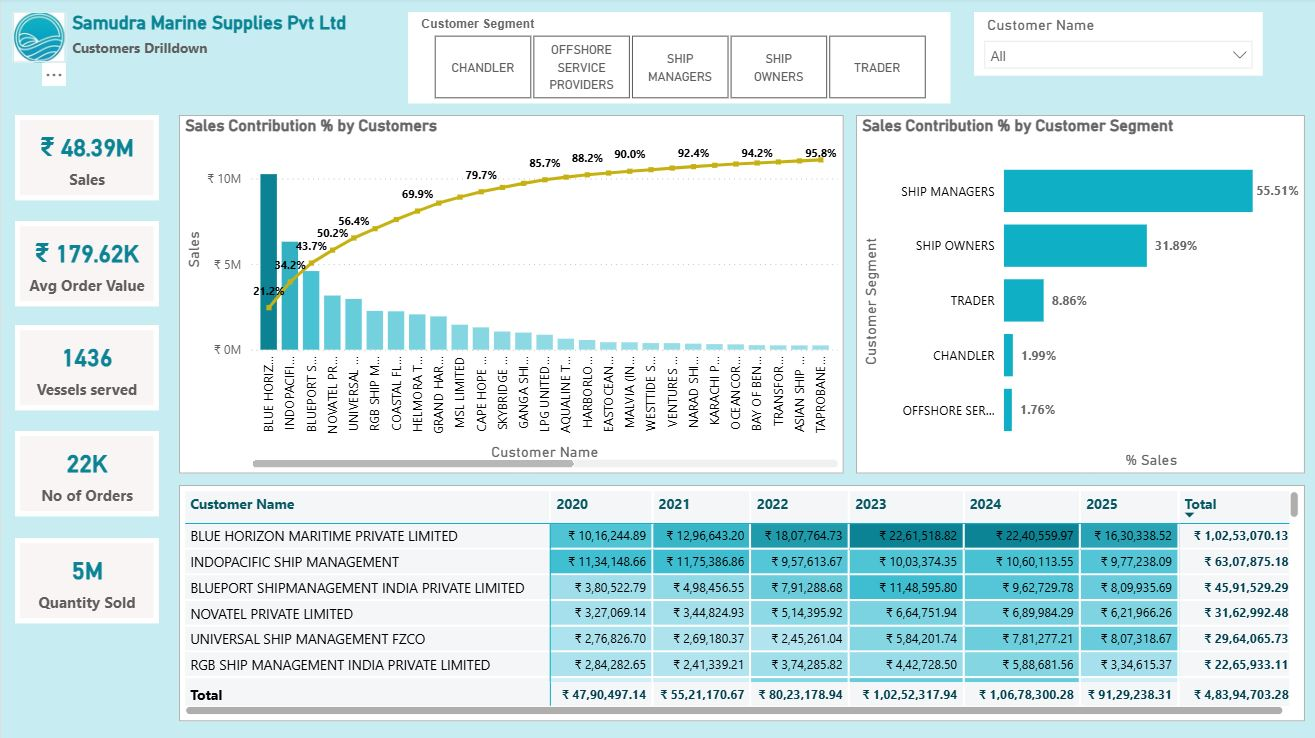

Layout of this report page (visuals, bound fields, positions):
{"tool":"powerbi","page":{"name":"Customers Drilldown","canvas":[1280,720],"ordinal":3},"visuals":[{"type":"lineStackedColumnComboChart","title":"Sales Contribution % by Customers","fields":{"Category":["dim_customers.Customer Name"],"Y":["Sum(kpi_customer_revenue.revenue)"],"Y2":["fact _orders.ParetoCumulative%"]},"box":[173.3,113.9,647.3,349.4],"z":0},{"type":"barChart","title":"Sales Contribution %  by Customer Segment","fields":{"Category":["dim_customers_segment.Customer Segment"],"Y":["Divide(Sum(kpi_customer_revenue.revenue), ScopedEval(Sum(kpi_customer_revenue.revenue), []))"]},"box":[832.2,113.9,437,349.4],"z":1000},{"type":"card","fields":{"Values":["Sum(kpi_customer_revenue.vessels_served)"]},"box":[13.6,318.3,140.2,82.7],"z":2000},{"type":"card","fields":{"Values":["Sum(kpi_customer_revenue.no_of_orders)"]},"box":[13.6,421.5,140.2,82.7],"z":3000},{"type":"card","fields":{"Values":["fact _orders.quantity_sold"]},"box":[13.6,525.6,140.2,82.7],"z":4000},{"type":"card","fields":{"Values":["Sum(kpi_customer_revenue.avg_order_value)"]},"box":[13.6,217.1,140.2,83],"z":5000},{"type":"card","fields":{"Values":["Sum(kpi_customer_revenue.revenue)"]},"box":[13.6,113.9,140.2,83],"z":6000},{"type":"slicer","fields":{"Values":["dim_customers_segment.Customer Segment"]},"box":[396.2,13.6,527.6,88.6],"z":7000},{"type":"pivotTable","fields":{"Rows":["dim_customers.Customer Name"],"Columns":["dim_date.Year"],"Values":["fact _orders.Actual_Sales"]},"box":[173.3,474,1096,229.7],"z":8000},{"type":"slicer","fields":{"Values":["dim_customers.Customer Name"]},"box":[947.1,13.6,281.3,62.3],"z":9000},{"type":"textbox","title":"Samudra Marine Supplies Pvt Ltd","box":[64.2,13.6,318.3,50.6],"z":10000},{"type":"image","box":[10.7,13.6,53.5,48.7],"z":11000}]}

Visuals, with their boxes in screenshot pixels (x1, y1, x2, y2), scaled from the page's 1280x720 canvas onto the 1315x738 screenshot:
"Sales Contribution % by Customers" lineStackedColumnComboChart: bbox=(178, 117, 843, 475)
"Sales Contribution %  by Customer Segment" barChart: bbox=(855, 117, 1304, 475)
card - Sum(kpi_customer_revenue.vessels_served): bbox=(14, 326, 158, 411)
card - Sum(kpi_customer_revenue.no_of_orders): bbox=(14, 432, 158, 517)
card - fact _orders.quantity_sold: bbox=(14, 539, 158, 624)
card - Sum(kpi_customer_revenue.avg_order_value): bbox=(14, 223, 158, 308)
card - Sum(kpi_customer_revenue.revenue): bbox=(14, 117, 158, 202)
slicer - dim_customers_segment.Customer Segment: bbox=(407, 14, 949, 105)
pivotTable - dim_customers.Customer Name x dim_date.Year: bbox=(178, 486, 1304, 721)
slicer - dim_customers.Customer Name: bbox=(973, 14, 1262, 78)
"Samudra Marine Supplies Pvt Ltd" textbox: bbox=(66, 14, 393, 66)
image: bbox=(11, 14, 66, 64)
